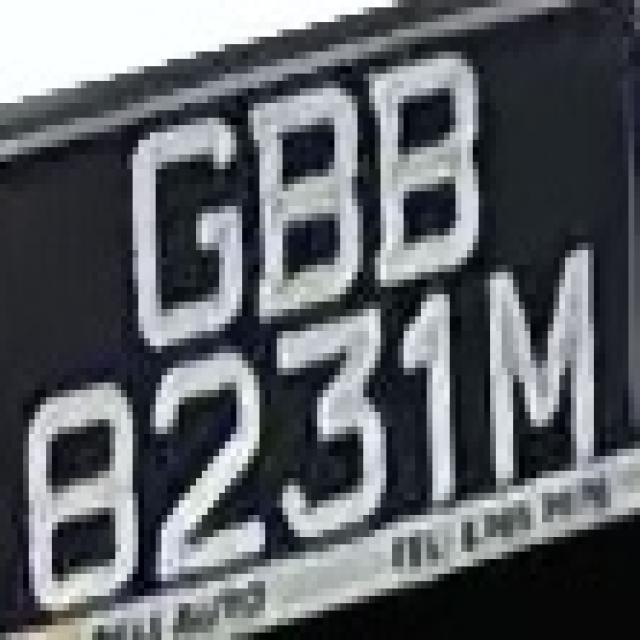1: (403, 264, 472, 530)
2: (132, 338, 282, 582)
3: (248, 294, 392, 552)
8: (17, 375, 156, 611)
B: (357, 44, 496, 280), (248, 66, 363, 324)
G: (110, 89, 242, 338)
M: (473, 242, 611, 508)
